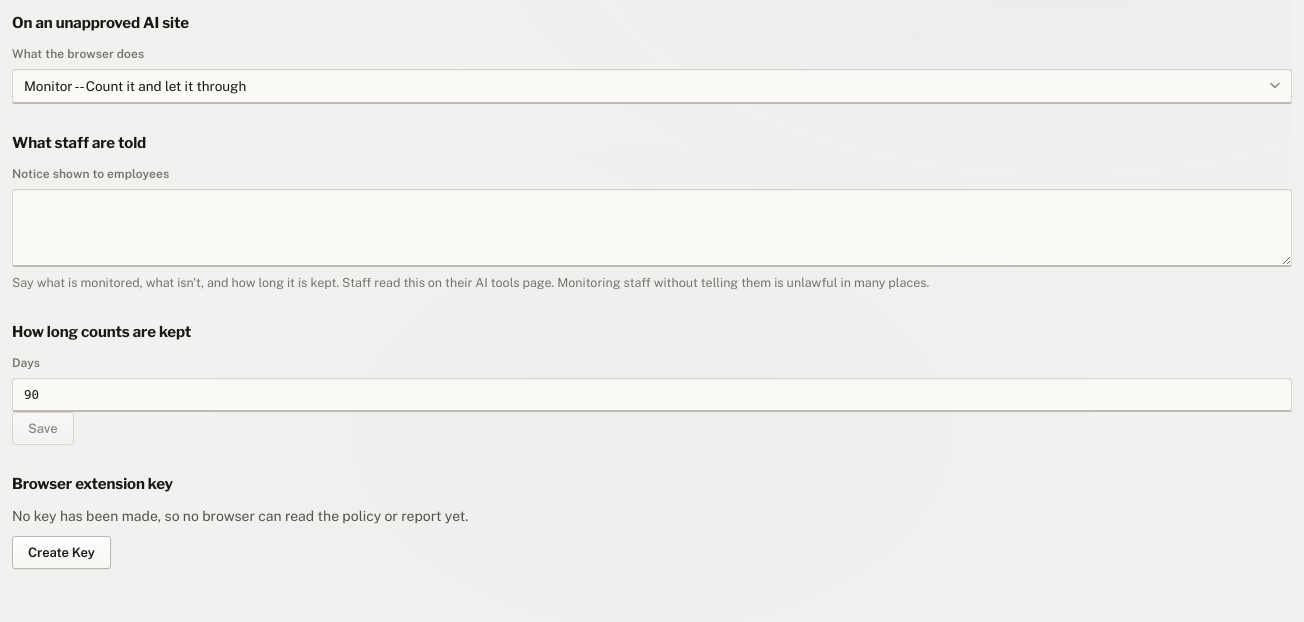
Test: AIUseSettingsPanel › says why a setting couldn't be saved
Select "Warn -- Tell the person; they can go on and give a reason" in the dropdown labelled "What the browser does" at (652, 86), box [12,69,1292,104]
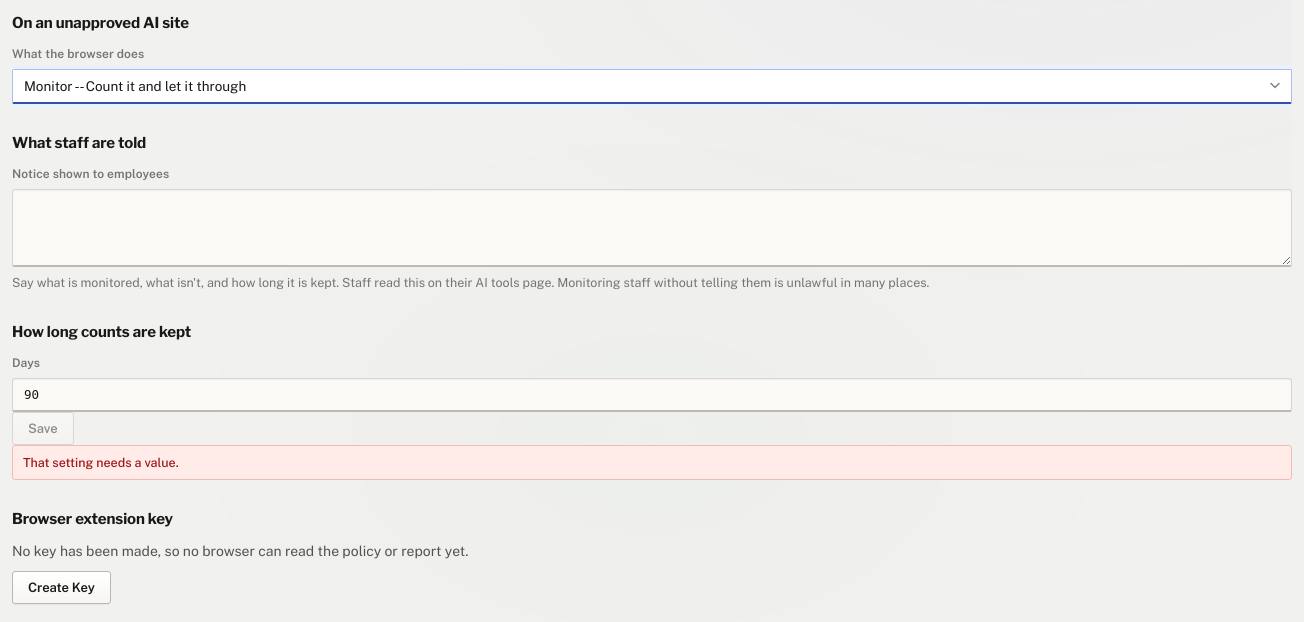
Expected: the message reads "That setting needs a value.", [23,455,179,470]
